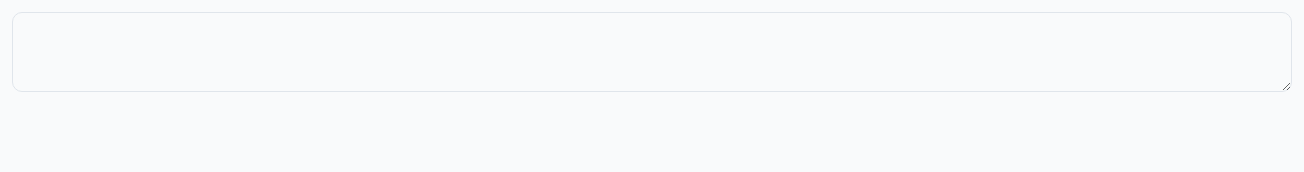
Test case: buffer clínico por ficha › badge e 800 ms de autosave não renderizam novamente a ficha durante a escrita
In the text box: x=652, y=52 top-left (12, 12), bottom-right (1292, 92), type "Conteúdo final sem engasgo"
Wait 800 ms
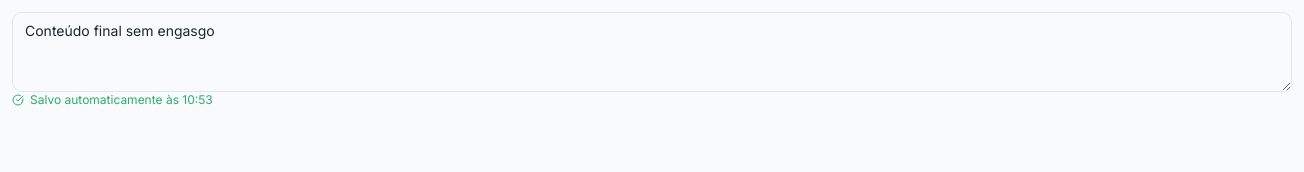
Check: the text "Salvo automaticamente às 10:53" is shown, box top-left (12, 92), bottom-right (213, 108)
